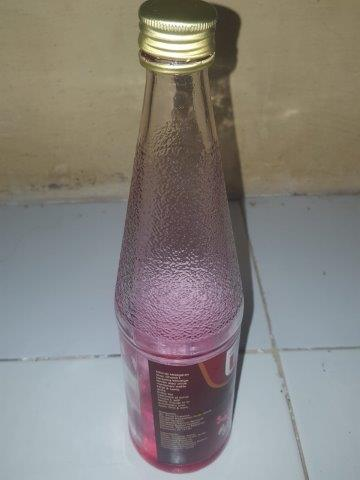botolkaca: (114, 6, 246, 473)
